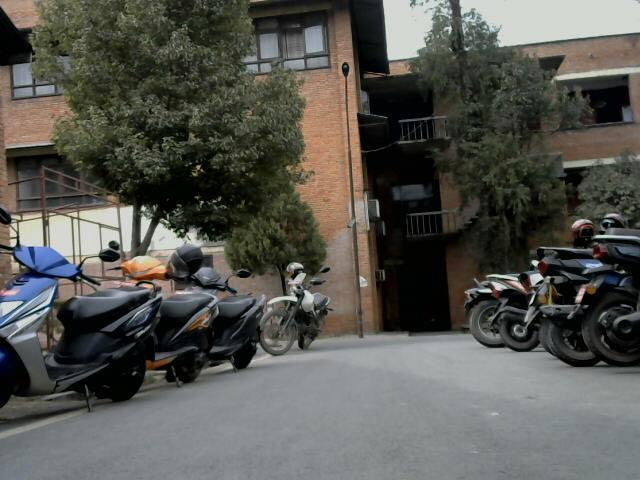Electrical Pole: (336, 61, 369, 338)
Motorcycle: (1, 232, 333, 399), (459, 213, 640, 378)
Road: (126, 339, 604, 472)
Tree: (35, 4, 310, 206), (408, 5, 559, 194), (259, 171, 331, 261)
